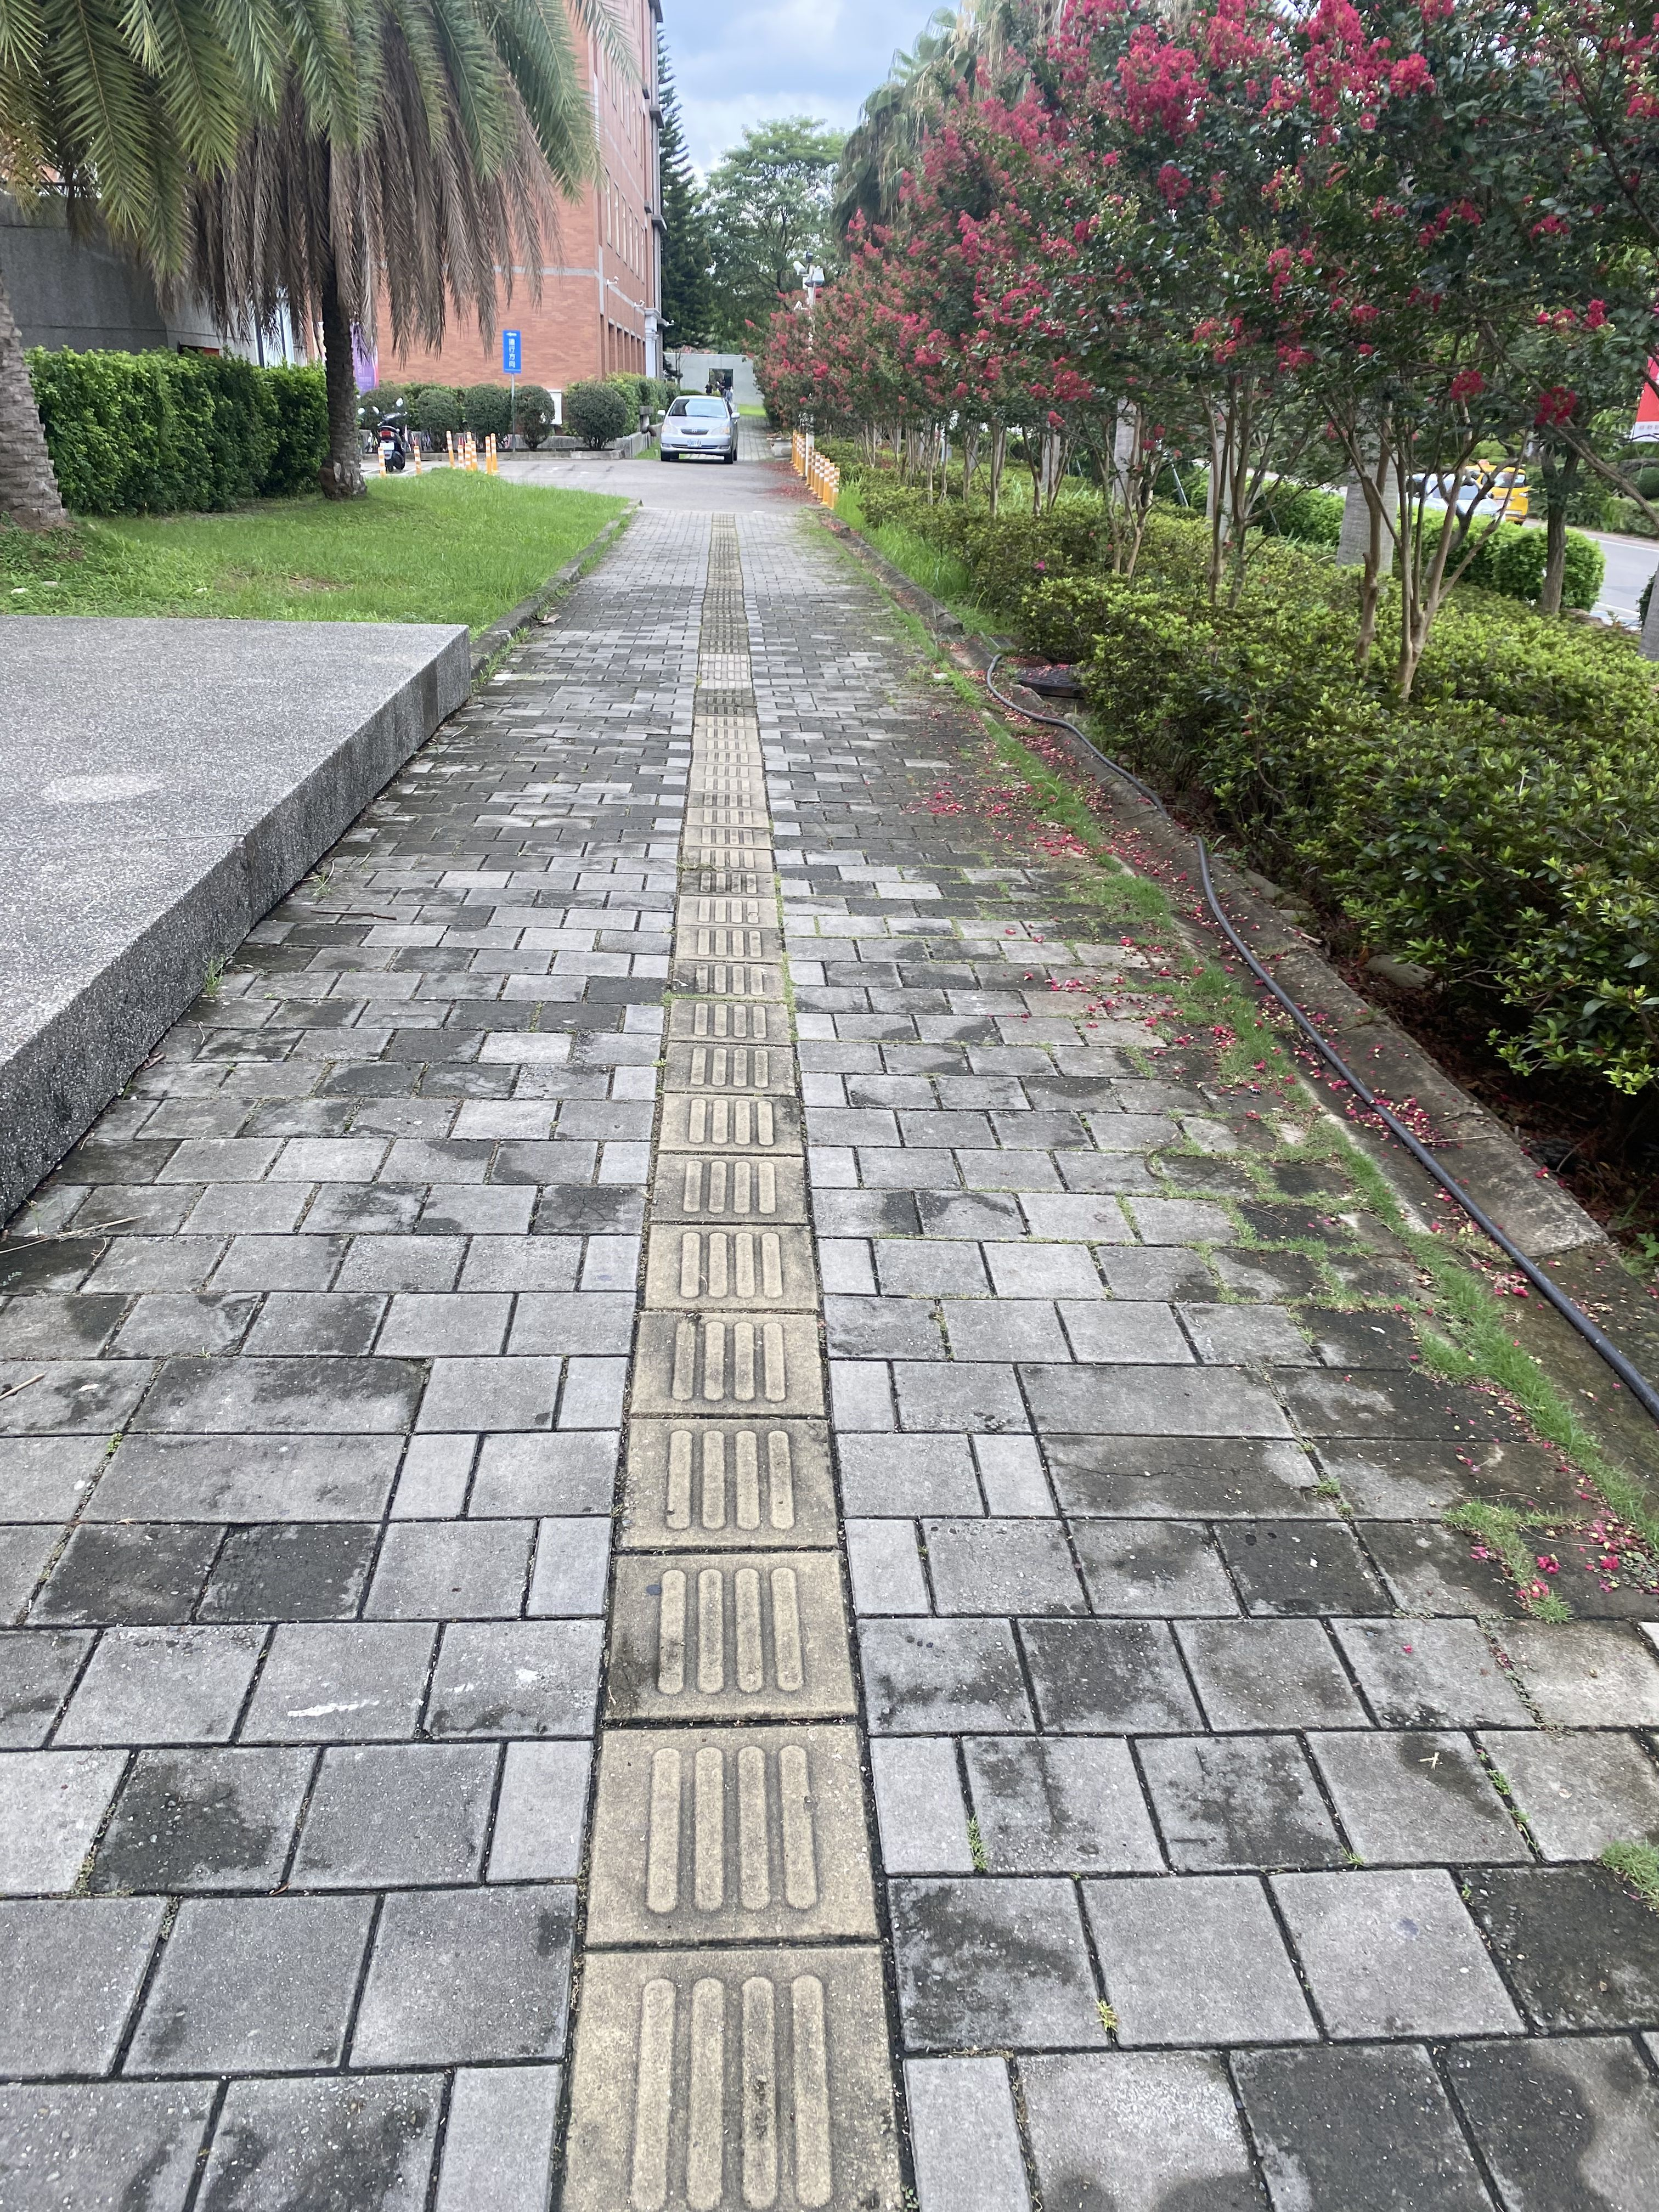0: (7, 695, 1659, 2212)
sidewalk: (408, 505, 1164, 1611)
